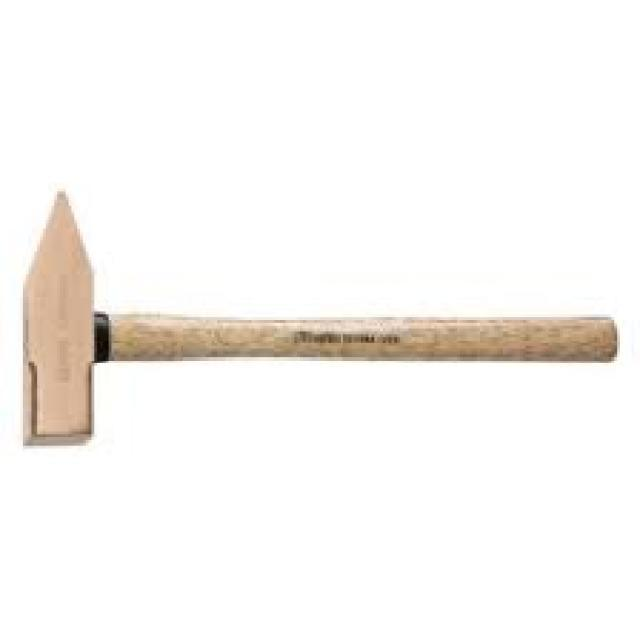Palu: (21, 178, 616, 451)
